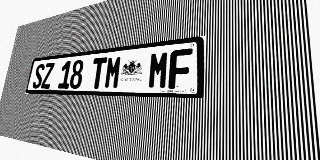1: (58, 61, 73, 89)
8: (69, 59, 85, 89)
F: (168, 48, 192, 89)
M: (147, 50, 170, 89), (104, 55, 123, 89)
S: (32, 63, 45, 89)
T: (89, 57, 107, 89)
Z: (41, 62, 55, 89)
